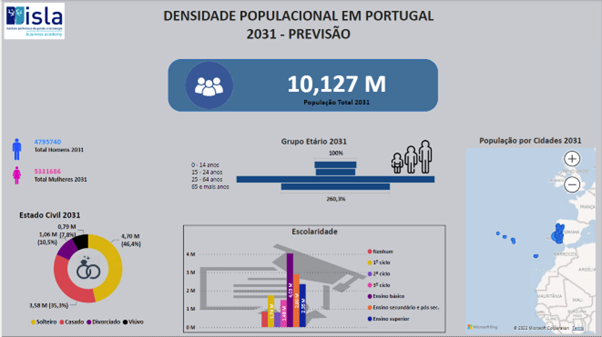

The dashboard page shown, as its layout file describes it:
{"tool":"powerbi","page":{"name":"Previsão 2031","canvas":[1280,720],"ordinal":2},"visuals":[{"type":"textbox","box":[2,9.2,1270.8,87.3],"z":0},{"type":"group","id":"g1","title":"Grupo 5","box":[354.6,126.9,576,112],"z":0,"group":"g4"},{"type":"shape","box":[354.6,126.9,576,112],"z":0,"group":"g1"},{"type":"funnel","title":"Grupo Etário 2031","fields":{"Y":["Estado Civil.Total 0-14","Estado Civil.Total 15-24","Estado Civil.Total 25-64","Estado Civil.Total 65+"]},"box":[400,289.9,533.8,150.7],"z":0,"group":"g5"},{"type":"multiRowCard","fields":{"Values":["Estado Civil.Total M 2031"]},"box":[64,352,336,64],"z":0,"group":"g2"},{"type":"donutChart","title":"Estado Civil 2031","fields":{"Y":["Estado Civil.Total 2031 Solteiro","Estado Civil.Total 2031 Casado","Estado Civil.Total 2031 Divorciado","Estado Civil.Total 2031 Viúvo"]},"box":[32,448,304,260.6],"z":0,"group":"g3"},{"type":"card","fields":{"Values":["Ensino.População Total 2031"]},"box":[498.6,126.9,432,112],"z":1000,"group":"g1"},{"type":"image","box":[826.2,288,97.9,96],"z":1000,"group":"g5"},{"type":"image","box":[0,352,64,48],"z":1000,"group":"g2"},{"type":"clusteredColumnChart","title":"Escolaridade","fields":{"Y":["Ensino.Total 2031 Nenhum","Ensino.Total 2031 1º Ciclo","Ensino.Total 2031 2º Ciclo","Ensino.Total 2031 3º Ciclo","Ensino.Total 2031 Básico","Ensino.Total 2031 Secundário","Ensino.Total 2031 Superior"]},"box":[386.9,482.9,559.7,230.4],"z":1000},{"type":"image","box":[89.1,541.2,190.8,61.4],"z":1000,"group":"g3"},{"type":"image","box":[370.6,126.9,144,112],"z":2000,"group":"g1"},{"type":"multiRowCard","fields":{"Values":["Estado Civil.Total H 2031"]},"box":[64,288,336,48],"z":2000,"group":"g2"},{"type":"map","title":"População por Cidades 2031","fields":{"Category":["Local.Local"],"Size":["Estado Civil.Total 2031 Local"]},"box":[984,288,288,432],"z":2000},{"type":"group","id":"g2","title":"Grupo 1","box":[0,288,400,128],"z":3000},{"type":"image","box":[0,288,64,64],"z":3000,"group":"g2"},{"type":"group","id":"g3","title":"Grupo 2","box":[32,448,304,256],"z":4000},{"type":"group","id":"g4","title":"Grupo 3","box":[354.6,126.9,576,112],"z":5000},{"type":"image","box":[0,0,139.2,89.3],"z":6000},{"type":"group","id":"g5","title":"Grupo 4","box":[400,288,528,144],"z":7000}]}

Visuals, with their boxes in screenshot pixels (x1, y1, x2, y2), scaled from the page's 1280x720 canvas onto the 602x337 screenshot:
textbox: 1/4/599/45
"Grupo 5" group: 167/59/438/112
shape: 167/59/438/112
"Grupo Etário 2031" funnel: 188/136/439/206
multiRowCard - Estado Civil.Total M 2031: 30/165/188/195
"Estado Civil 2031" donutChart: 15/210/158/332
card - Ensino.População Total 2031: 234/59/438/112
image: 389/135/435/180
image: 0/165/30/187
"Escolaridade" clusteredColumnChart: 182/226/445/334
image: 42/253/132/282
image: 174/59/242/112
multiRowCard - Estado Civil.Total H 2031: 30/135/188/157
"População por Cidades 2031" map: 463/135/598/336
"Grupo 1" group: 0/135/188/195
image: 0/135/30/165
"Grupo 2" group: 15/210/158/330
"Grupo 3" group: 167/59/438/112
image: 0/0/65/42
"Grupo 4" group: 188/135/436/202
